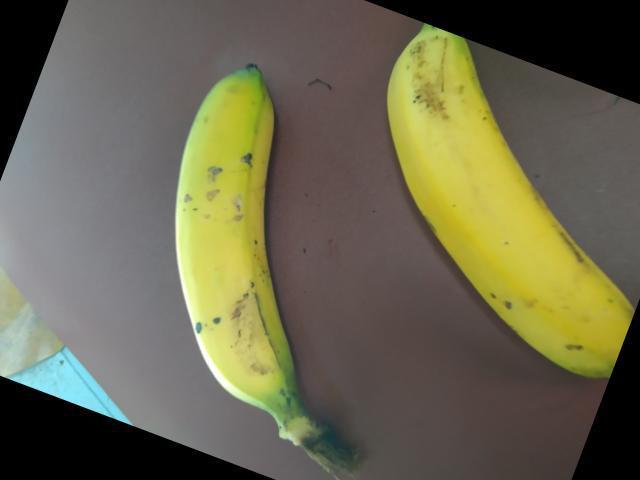ripe: (382, 18, 639, 396), (159, 48, 329, 479)
